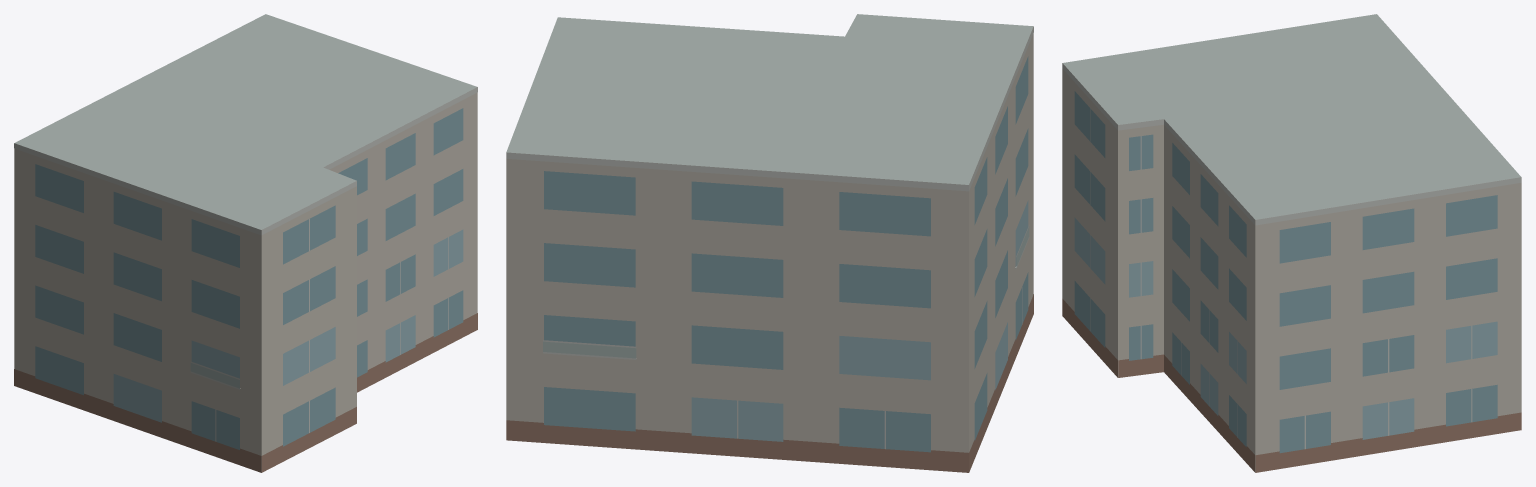
Rendered from survey-upis-32976971.glb.
3 renders of one model, left to right at view 1: azimuth 30°, elevation 25°; view 2: azimuth 150°, elevation 25°; view 3: azimuth 270°, elevation 25°, orthographic. The views are drawn at different scales.
Visible parts, largest first — view 1: survey-upis-32976971.tmp; view 2: survey-upis-32976971.tmp; view 3: survey-upis-32976971.tmp.
Part boxes in pixels (x1,y1,x2,y2): survey-upis-32976971.tmp: (14,14,477,472); survey-upis-32976971.tmp: (506,14,1033,472); survey-upis-32976971.tmp: (1062,14,1521,472).
Bounding box in the file's own units: 19.39 × 11.1 × 18.27.
